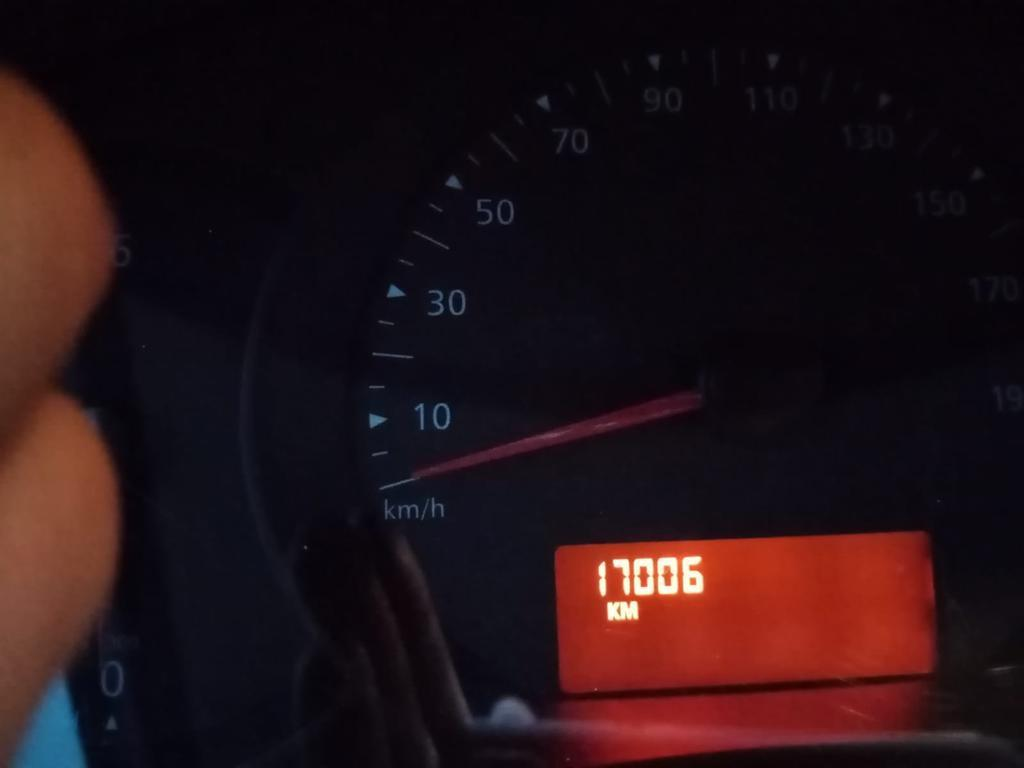0: (632, 556, 654, 595), (656, 556, 678, 595)
1: (597, 558, 608, 597)
6: (681, 554, 703, 594)
7: (611, 557, 631, 595)
X: (620, 600, 638, 619), (605, 600, 620, 620)
odometer: (547, 527, 950, 697)
